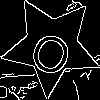O: (26, 21, 79, 80)
